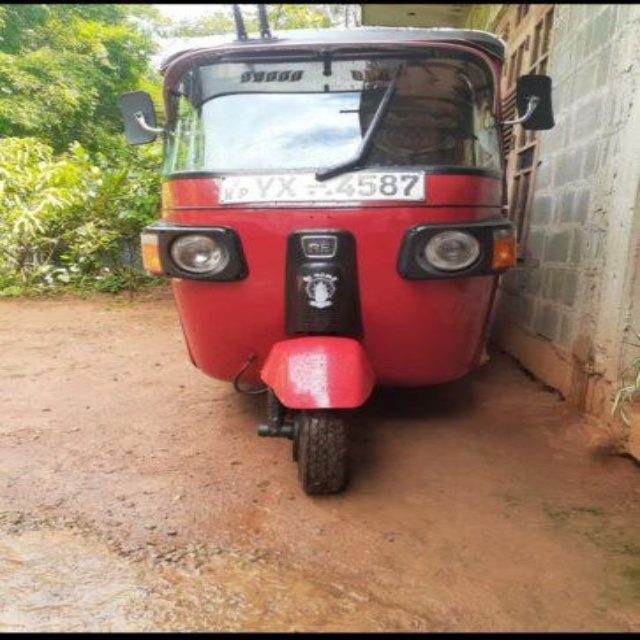Motorcycle: (120, 25, 555, 496)
